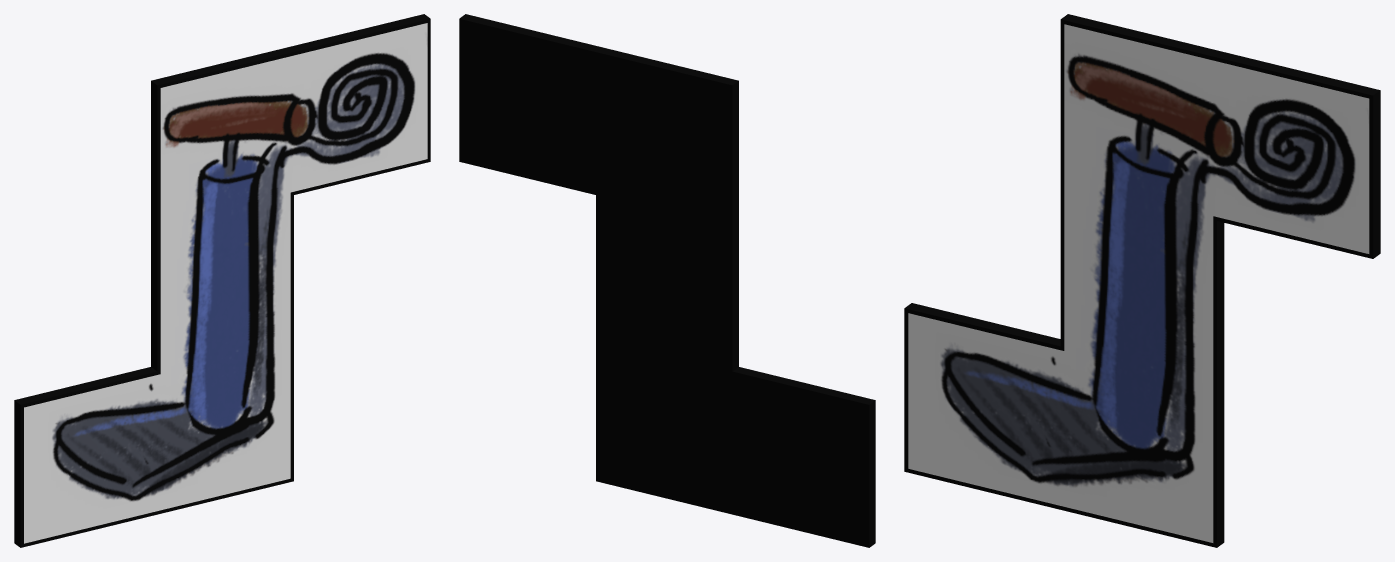
Rendered from mdl_poland_fiat_item6.gltf.
3 views of the same model, side by side, from view 1: azimuth 30°, elevation 25°; view 2: azimuth 150°, elevation 25°; view 3: azimuth 330°, elevation 25° (orthographic). The views are drawn at different scales.
Visible parts, largest first — view 1: Plane.006; view 2: Plane.006; view 3: Plane.006.
Boxes of the visible parts, x1,y1,x2,y2 form: Plane.006: [14, 14, 430, 547]; Plane.006: [459, 14, 875, 547]; Plane.006: [904, 14, 1380, 547].
Size of the model in its own units: 1.2 by 1.2 by 0.0326.
Materials: 2 (2 with a texture image).
